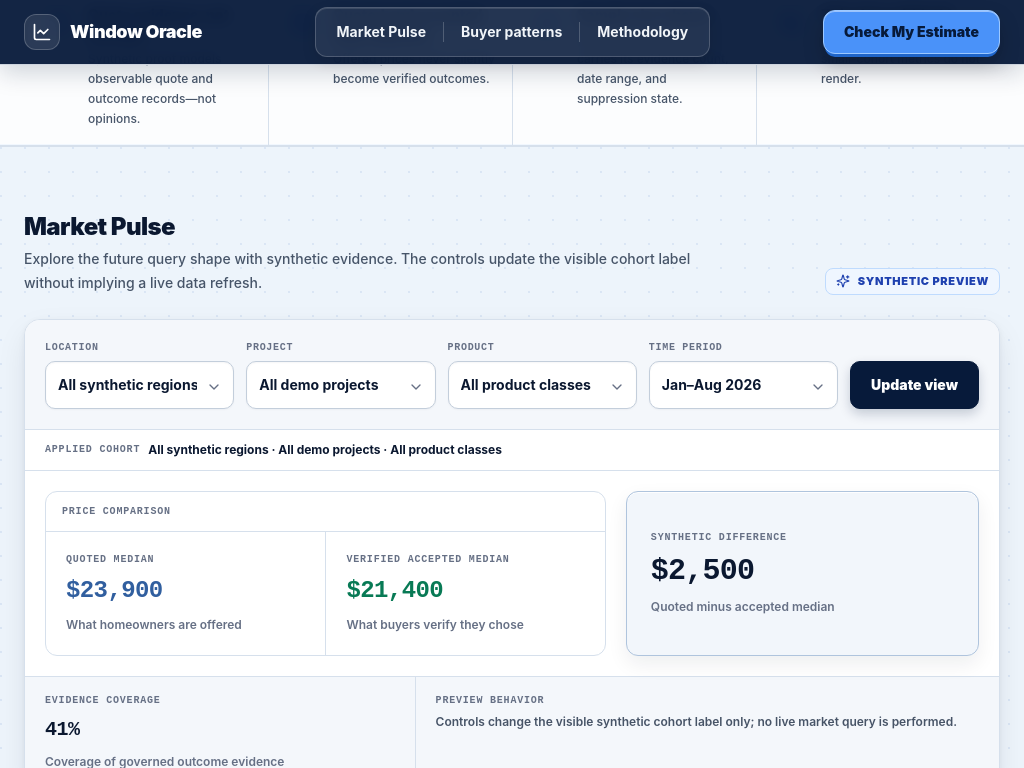
PublicOracleSurface › updates the visible synthetic cohort without changing the fixture
(page scrolled)
Select "Metro preview" in the dropdown labelled "Location": (140, 384) [45, 360, 234, 408]
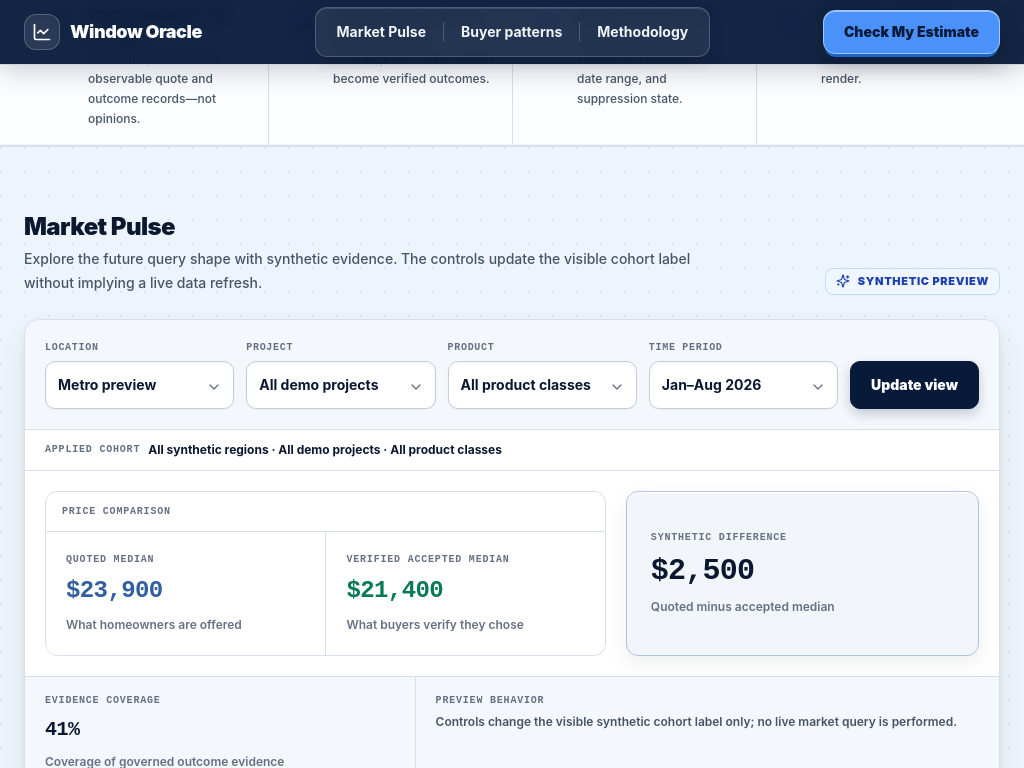
Click the button "Update view": (915, 384) [850, 360, 979, 408]
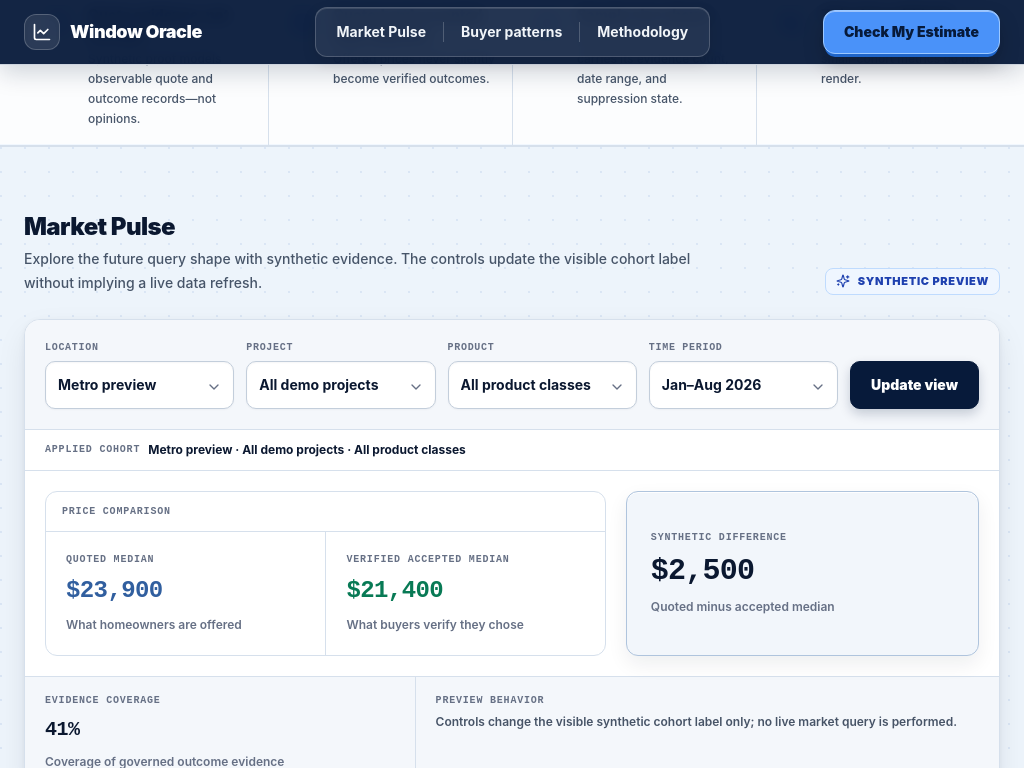
Expected: the text "Metro preview · All demo projects · All product classes" is shown, [148, 442, 466, 458]
